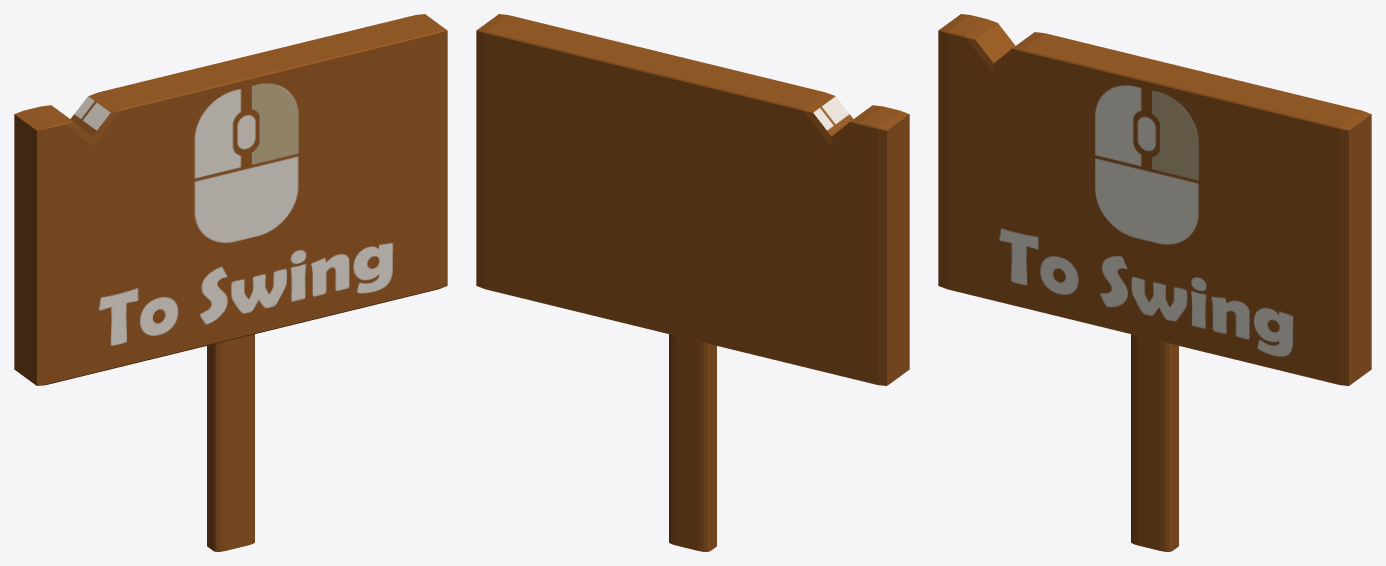
The model's file is SwingSign.fbx.
3 views of the same model, side by side, from view 1: azimuth 30°, elevation 25°; view 2: azimuth 150°, elevation 25°; view 3: azimuth 330°, elevation 25° (orthographic).
Visible parts, largest first — view 1: SwingSign; view 2: SwingSign; view 3: SwingSign.
Boxes of the visible parts, x1,y1,x2,y2 form: SwingSign: (14,14,447,551); SwingSign: (476,14,909,551); SwingSign: (938,14,1371,551).
Size of the model in its own units: 100 by 110 by 10.
